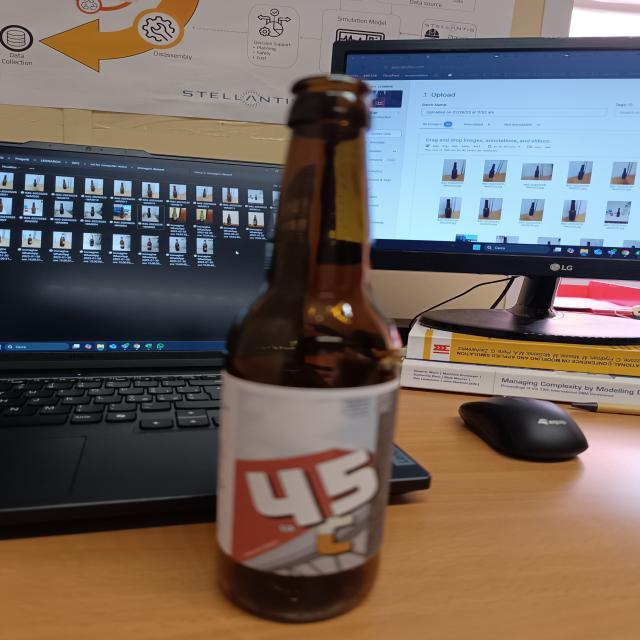Bottle: (218, 74, 389, 627)
Label: (212, 364, 396, 576)
